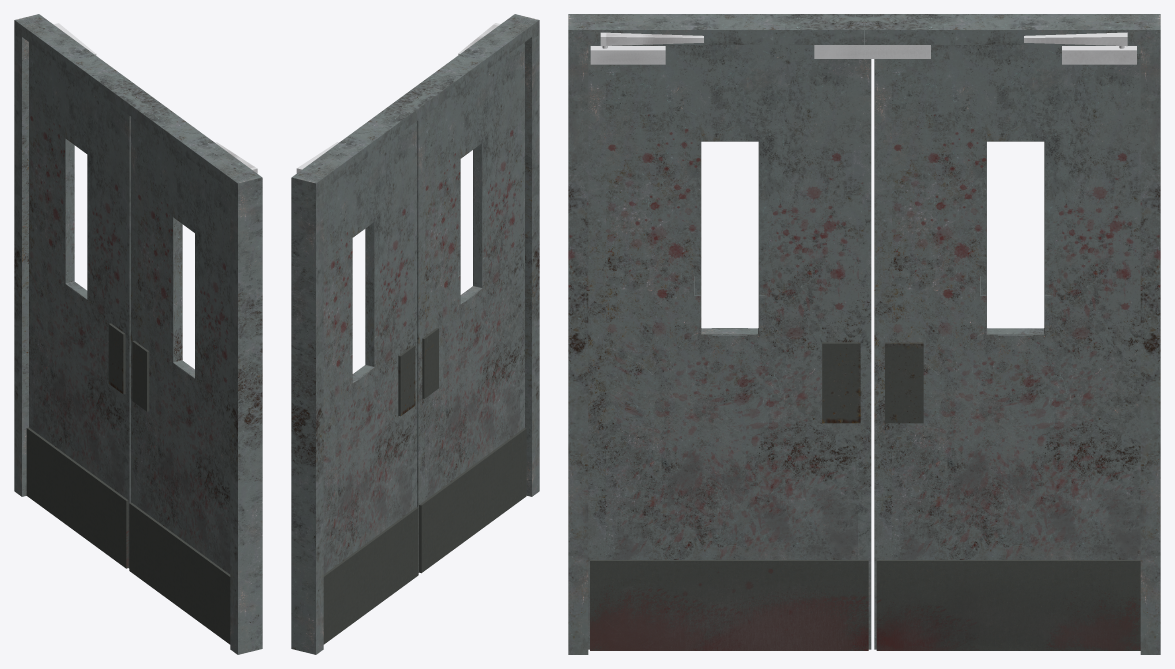
The picture shows the model from 3 angles, left to right: view 1: azimuth 30°, elevation 25°; view 2: azimuth 150°, elevation 25°; view 3: azimuth 270°, elevation 25°; orthographic projection. The views are drawn at different scales.
Parts seen in each view (by area): view 1: door1, door2, door_Frame, DoorHandle_MetalParts; view 2: door1, door2, door_Frame, DoorHandle_MetalParts; view 3: door1, door2, DoorHandle_MetalParts, door_Frame, Metal_parts.
Part boxes in pixels (left/top/right/bottom): door1: left=65, top=116, right=230, bottom=574; door2: left=29, top=42, right=129, bottom=568; door_Frame: left=14, top=14, right=262, bottom=654; DoorHandle_MetalParts: left=26, top=323, right=230, bottom=644; door1: left=417, top=42, right=524, bottom=572; door2: left=323, top=121, right=416, bottom=574; door_Frame: left=291, top=14, right=539, bottom=654; DoorHandle_MetalParts: left=323, top=328, right=526, bottom=644; door1: left=588, top=45, right=1044, bottom=649; door2: left=874, top=45, right=1140, bottom=649; DoorHandle_MetalParts: left=590, top=342, right=1140, bottom=650; door_Frame: left=568, top=14, right=1160, bottom=654; Metal_parts: left=590, top=32, right=1136, bottom=64.
Bounding box in the file's own units: 0.1685 × 2.39 × 2.05.
4 materials, 4 textured.
